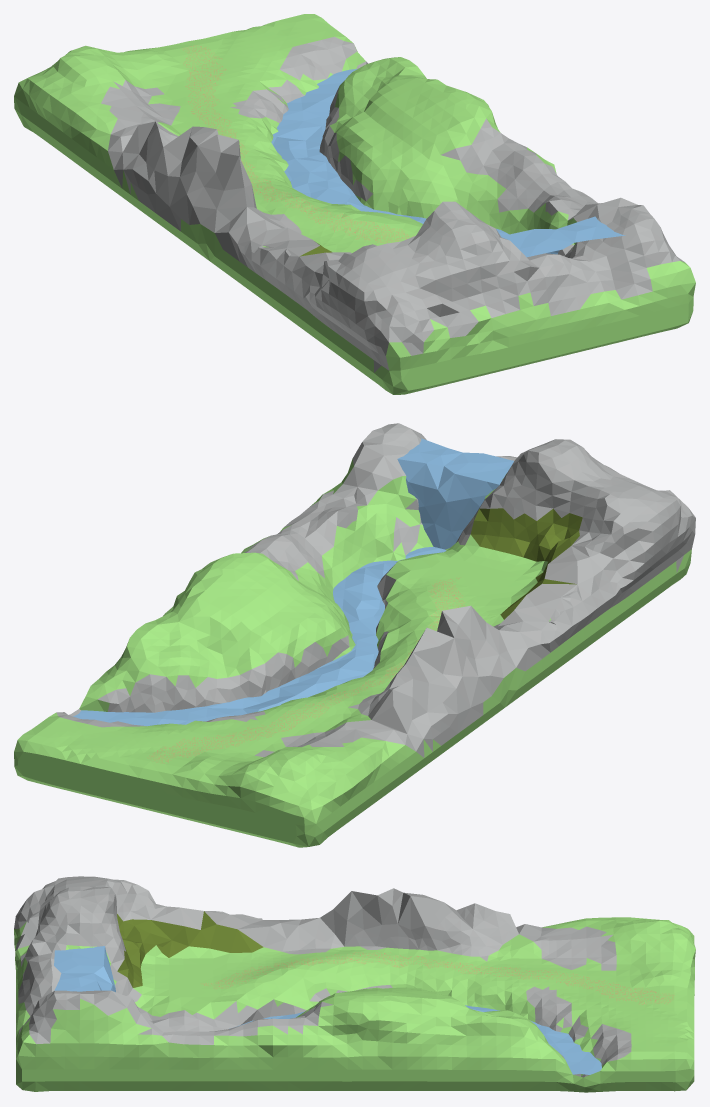
The model's file is parkscene.fbx.
The picture shows the model from 3 angles, top to bottom: view 1: azimuth 30°, elevation 25°; view 2: azimuth 150°, elevation 25°; view 3: azimuth 270°, elevation 25°; orthographic projection. The views are drawn at different scales.
Parts seen in each view (by area): view 1: Cube, Plane; view 2: Cube, Plane; view 3: Cube, Plane.
Part boxes in pixels (box(x1,y1,x2,y2)): Cube: box(14, 14, 695, 394); Plane: box(271, 69, 625, 257); Cube: box(14, 423, 695, 847); Plane: box(73, 438, 513, 726); Cube: box(14, 876, 695, 1092); Plane: box(54, 946, 601, 1074).
Bounding box in the file's own units: 327 × 147 × 687.
